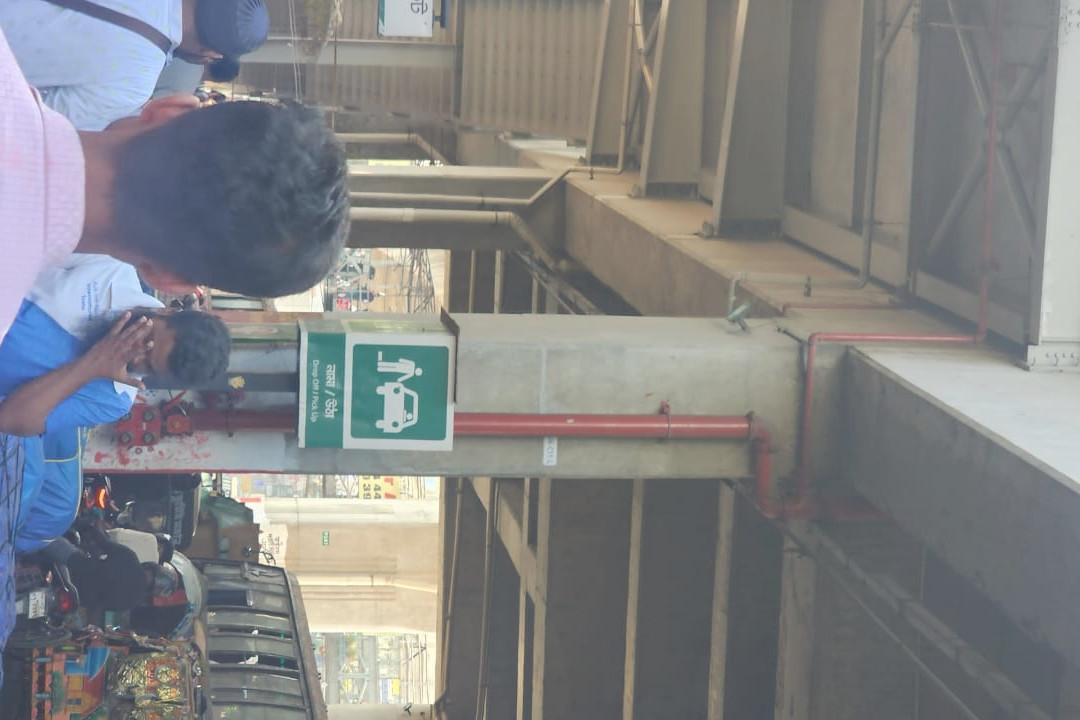Metro Dorp Up Pick up: (292, 300, 457, 451)
